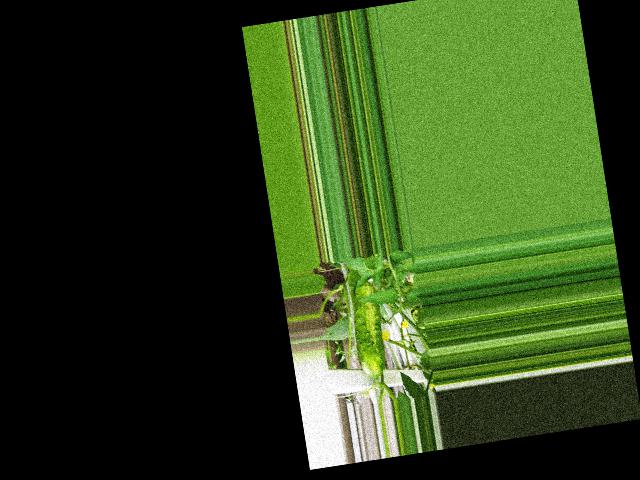cucumber: (347, 281, 388, 379)
